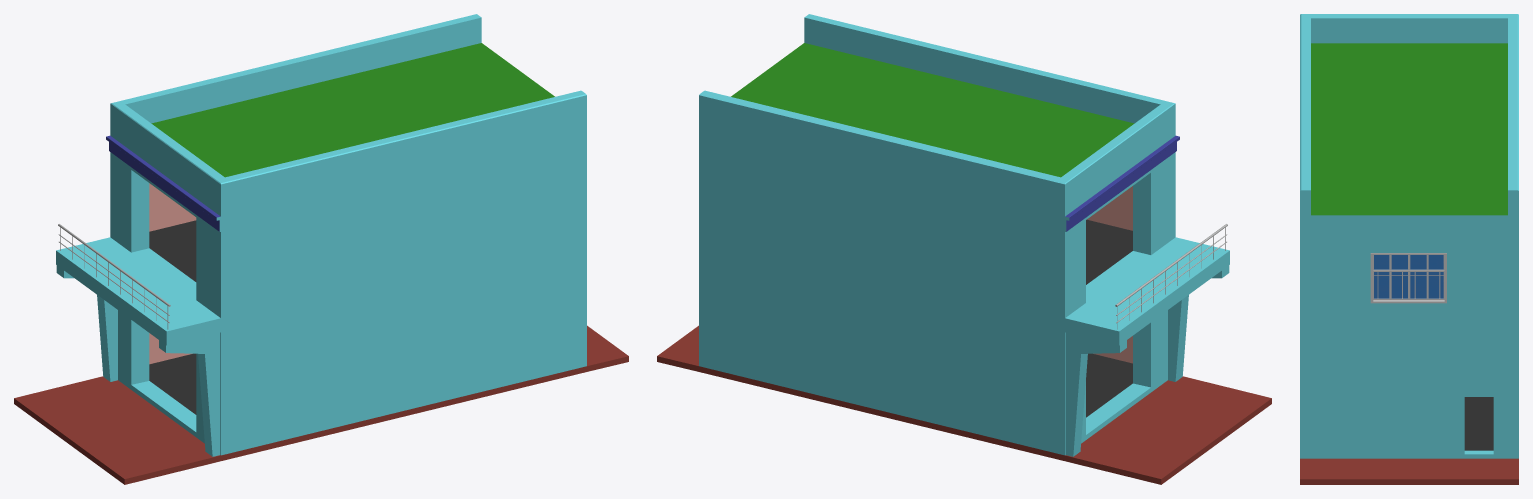
The model's file is Hotel_3.fbx.
3 renders of one model, left to right at view 1: azimuth 30°, elevation 25°; view 2: azimuth 150°, elevation 25°; view 3: azimuth 270°, elevation 25°, orthographic.
Parts seen in each view (by area): view 1: SM_Building3_Module, SM_Building3_Module_inside; view 2: SM_Building3_Module, SM_Building3_Module_inside; view 3: SM_Building3_Module, SM_Building3_Module_inside.
Part boxes in pixels (left/top/right/bottom): SM_Building3_Module: left=14, top=14, right=628, bottom=484; SM_Building3_Module_inside: left=149, top=183, right=196, bottom=414; SM_Building3_Module: left=657, top=14, right=1271, bottom=484; SM_Building3_Module_inside: left=1086, top=186, right=1132, bottom=417; SM_Building3_Module: left=1300, top=14, right=1518, bottom=484; SM_Building3_Module_inside: left=1464, top=397, right=1493, bottom=450.
Size of the model in its own units: 1989 by 1046 by 756.
